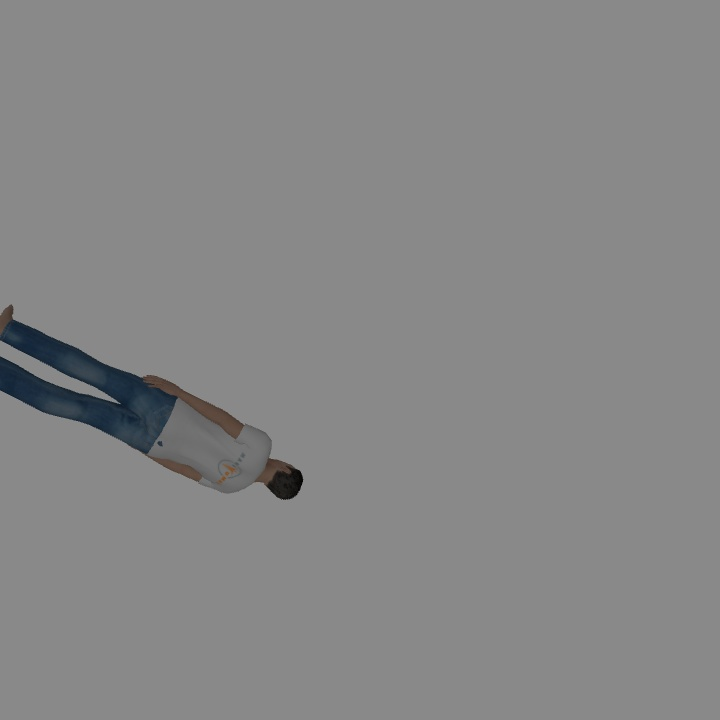victim: (1, 308, 301, 496)
